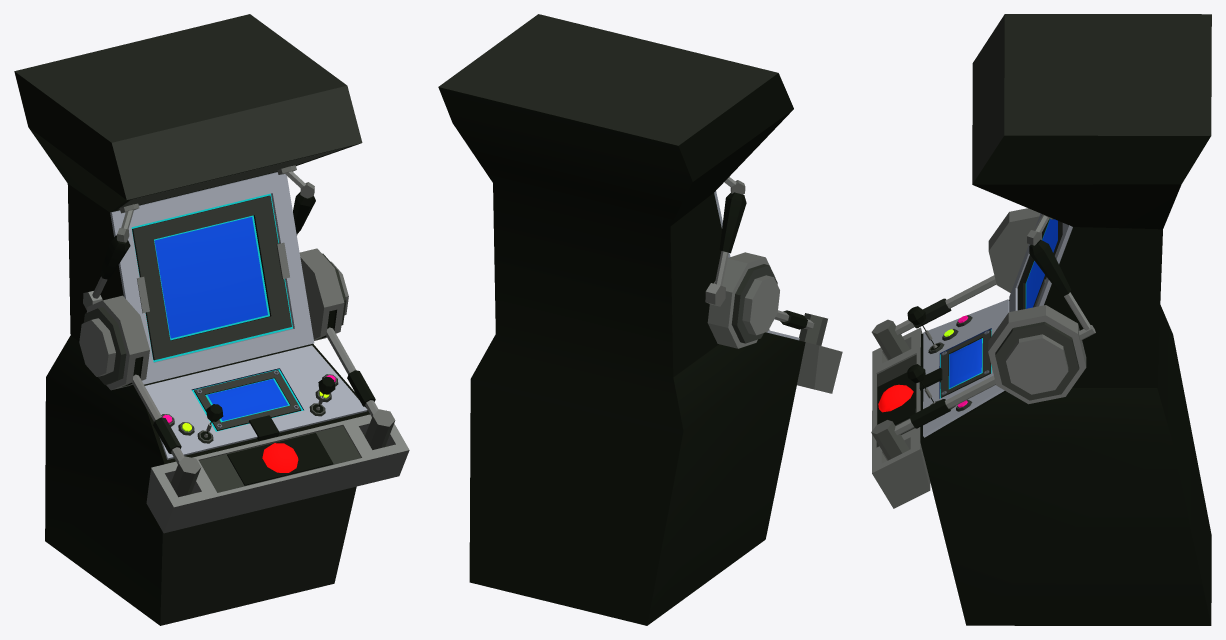
Rendered from Arcade_Machine_Black.glb.
3 renders of one model, left to right at view 1: azimuth 30°, elevation 25°; view 2: azimuth 150°, elevation 25°; view 3: azimuth 270°, elevation 25°, orthographic. The views are drawn at different scales.
Parts seen in each view (by area): view 1: ArcadeMachine_Black; view 2: ArcadeMachine_Black; view 3: ArcadeMachine_Black.
Boxes of the visible parts, <box> form: ArcadeMachine_Black: <box>14,14,409,625</box>; ArcadeMachine_Black: <box>438,14,842,625</box>; ArcadeMachine_Black: <box>871,14,1211,625</box>.
Size of what is drawn, in the model's own units: 1.39 by 2.63 by 1.61.
Materials: 1 (1 with a texture image).
